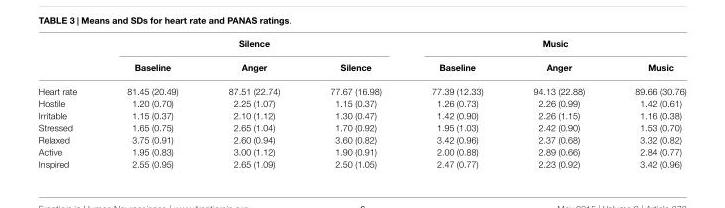table: (37, 37, 685, 168)
table column: (202, 37, 304, 168), (405, 37, 507, 168), (507, 37, 609, 168), (101, 37, 202, 168), (304, 37, 405, 168), (609, 37, 685, 168), (37, 37, 101, 168)
table column header: (37, 37, 685, 78)
table row: (37, 54, 685, 78), (37, 78, 685, 96), (37, 37, 685, 54), (37, 120, 685, 133), (37, 96, 685, 108), (37, 108, 685, 120), (37, 133, 685, 145), (37, 145, 685, 157), (37, 157, 685, 168)
table spanning cell: (101, 37, 405, 54), (405, 37, 685, 54)
